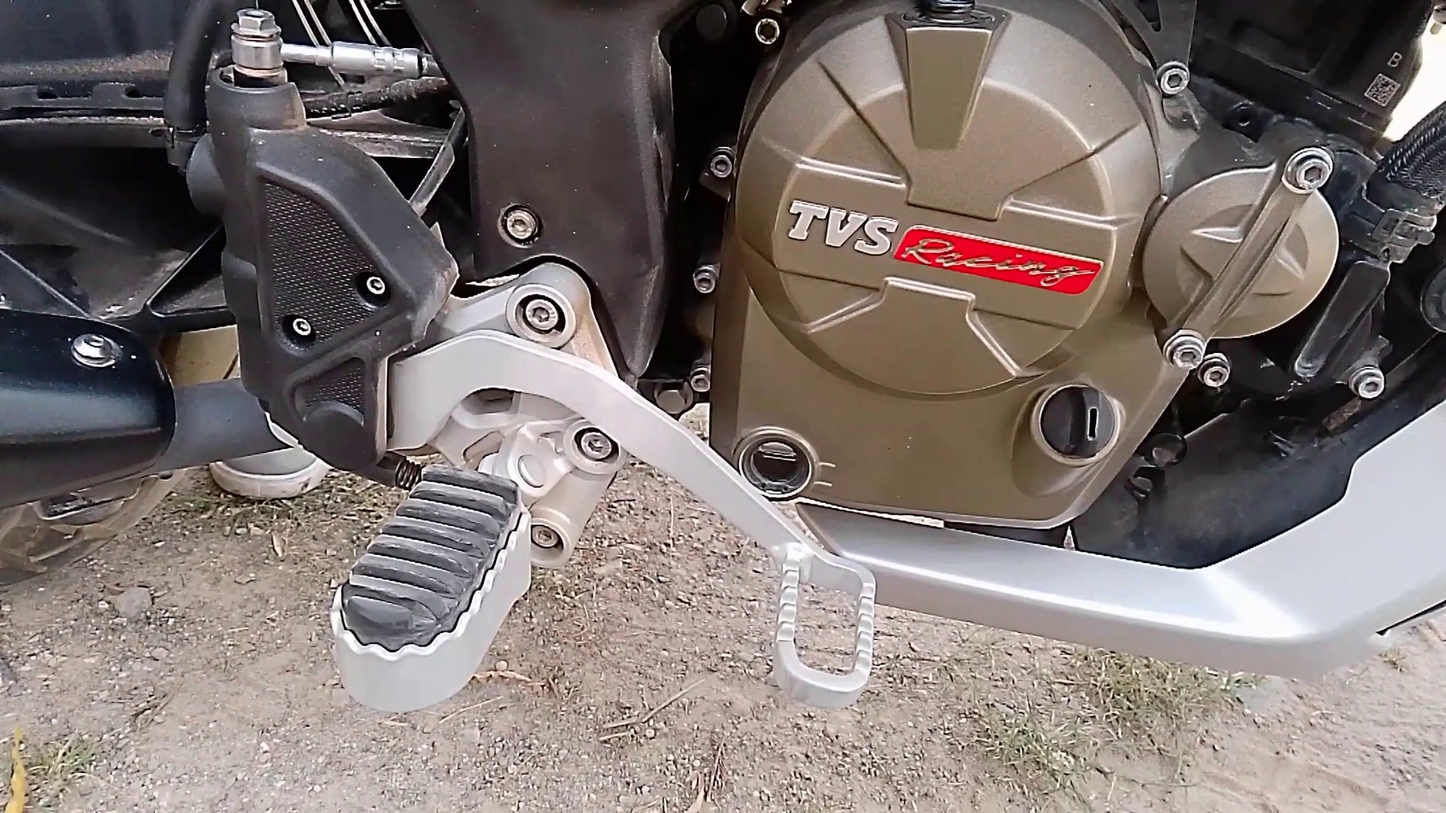bike-engine: (706, 0, 1355, 531)
bike-engine-level: (731, 422, 820, 503)
bike-oil-cap: (1018, 377, 1141, 466)
